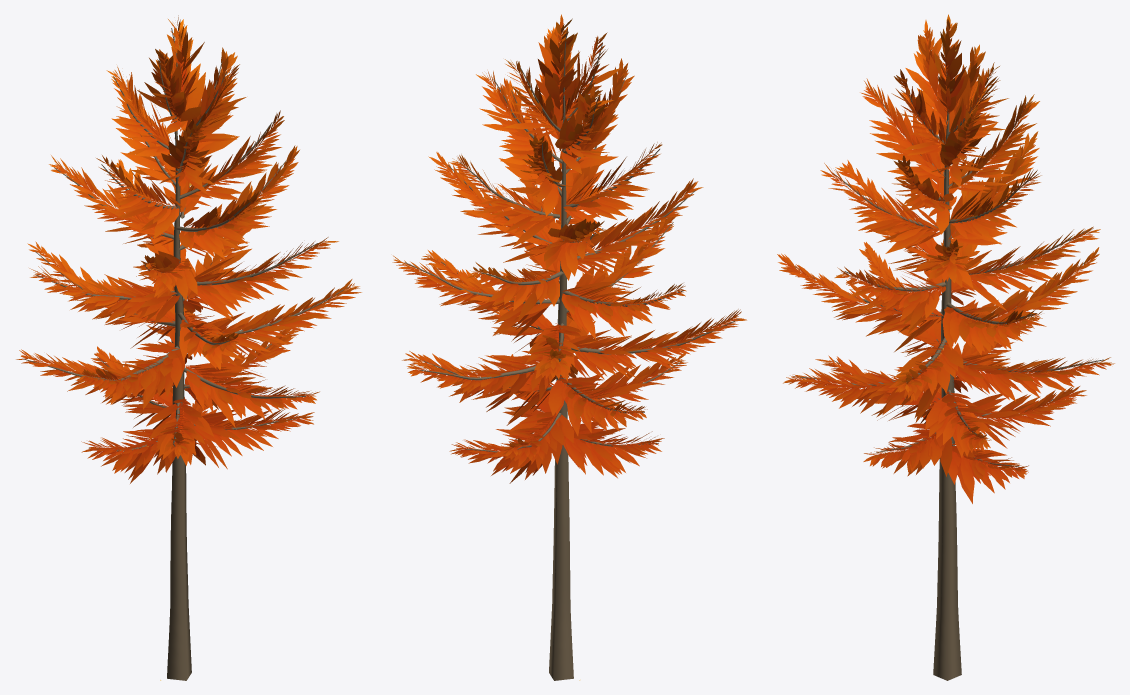
The model's file is tree_orange.fbx.
3 views of the same model, side by side, from view 1: azimuth 30°, elevation 25°; view 2: azimuth 150°, elevation 25°; view 3: azimuth 270°, elevation 25° (orthographic).
Visible parts, largest first — view 1: polySurface7816, polySurface2931; view 2: polySurface7816, polySurface2931; view 3: polySurface7816, polySurface2931.
Part boxes in pixels (x1,y1,x2,y2): polySurface7816: (16, 15, 361, 483); polySurface2931: (23, 28, 348, 680); polySurface7816: (392, 14, 746, 483); polySurface2931: (405, 29, 739, 680); polySurface7816: (777, 14, 1114, 503); polySurface2931: (793, 70, 1103, 680).
Bounding box in the file's own units: 885 × 1818 × 851.
3 materials, 2 textured.
